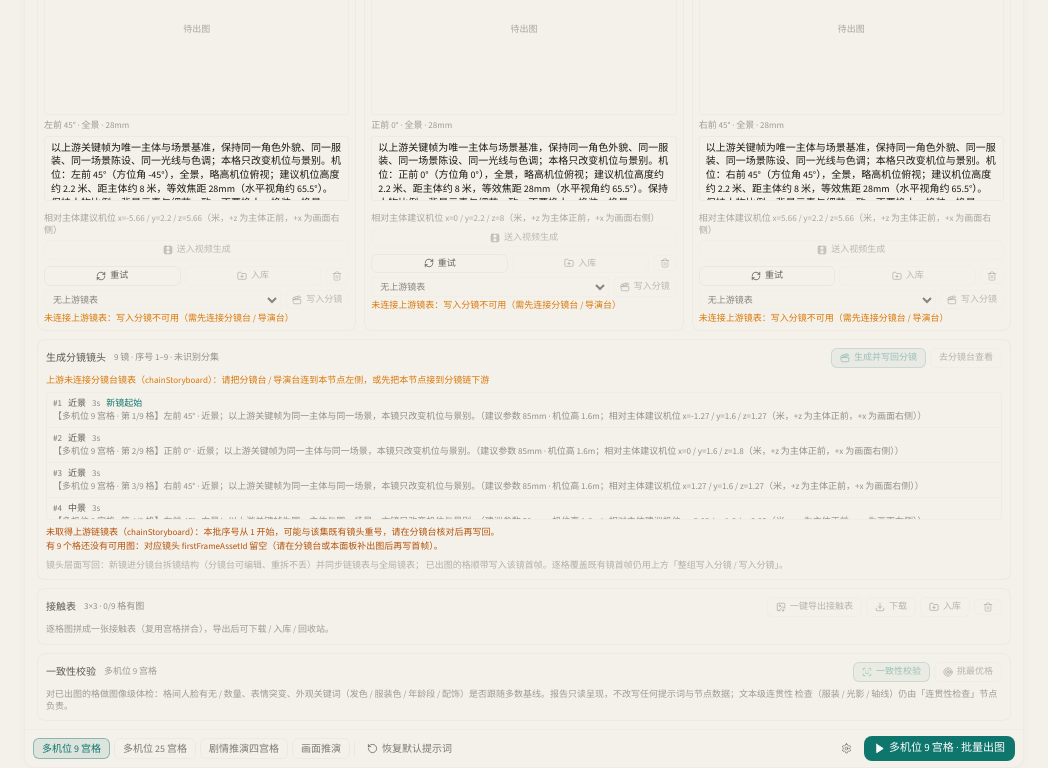
Scenario: MultiGridWorkspace：模式与规格写回 › 切模式写入固定字段组，并清空上一模式的计划 / 逐格稿 / 格序映射（幂等清除）
This screenshot has width=1048, height=768.
(page scrolled)
Click the button "剧情推演四宫格".
click(244, 748)  # box [200,738,288,759]
(page scrolled)
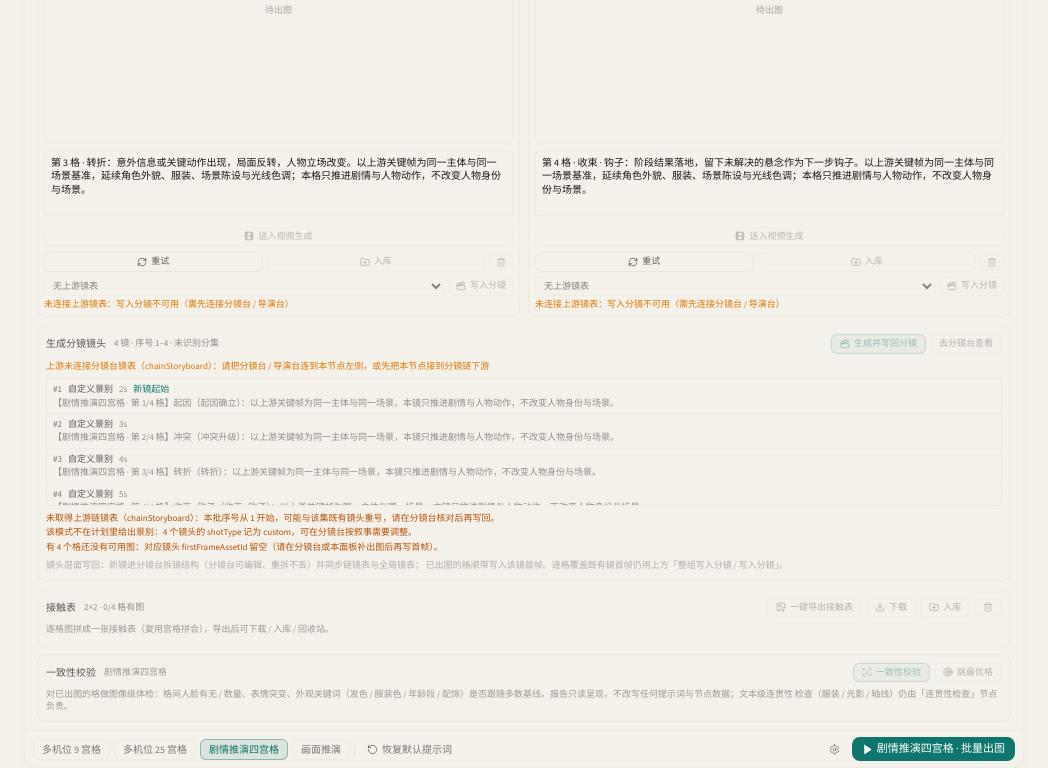
Now the number of elements titled "编辑后该格按此文本出图（中英同源）" is 4
Click the button titled "更多设置".
click(834, 749)  # box [823,742,846,756]
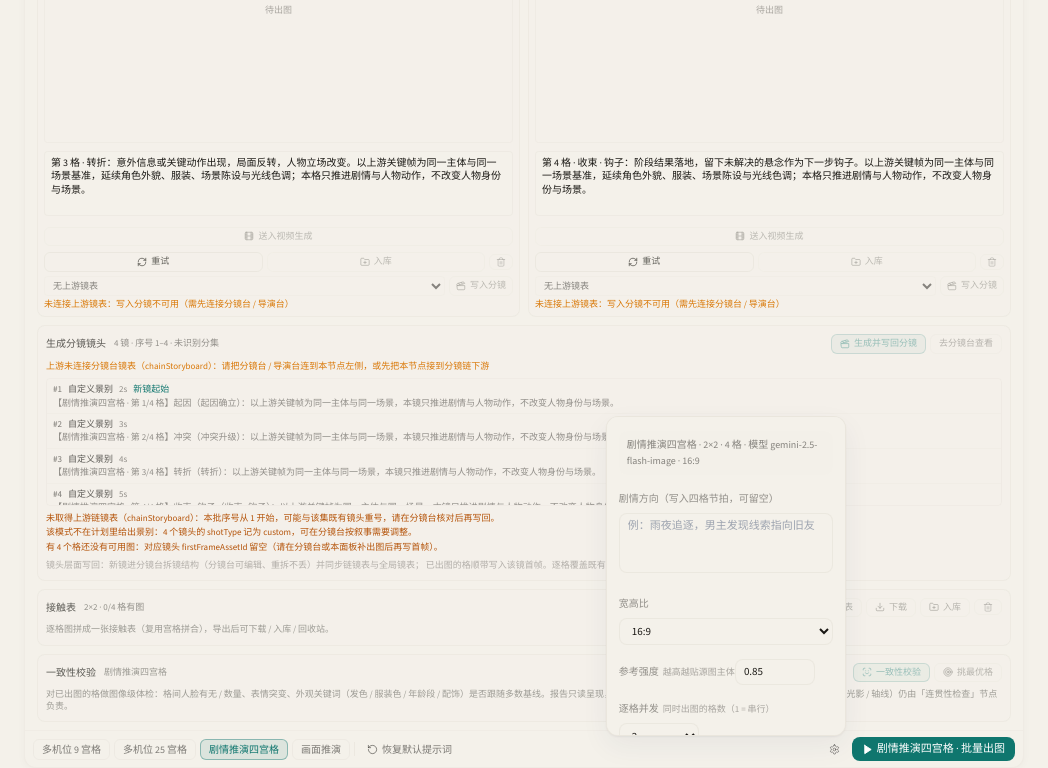
Now the text "剧情方向（写入四格节拍，可留空）" is shown, box [619,492,779,505]
Now the text box with placeholder "例：雨夜追逐，男主发现线索指向旧友" is shown, box [619,513,833,572]
